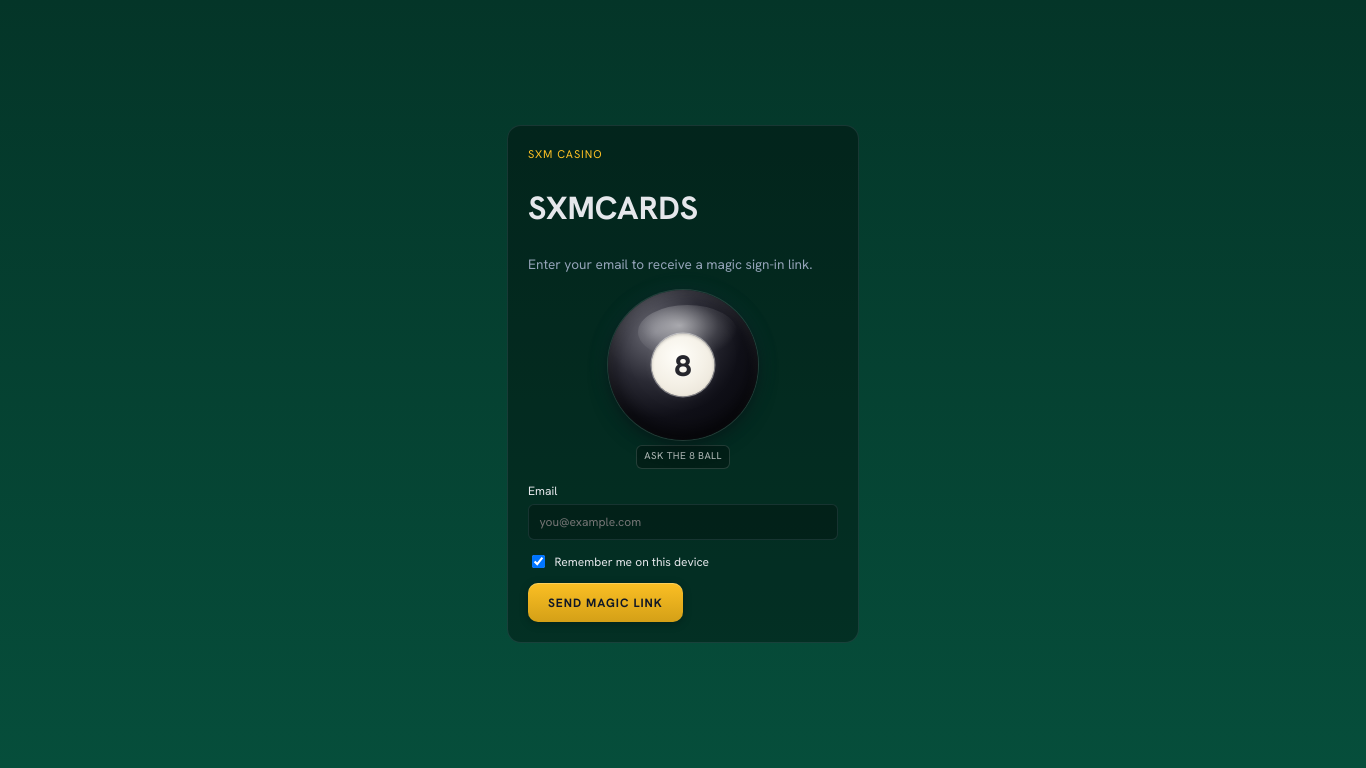
Test: LoginScreen › error state keeps email input for retry
This screenshot has width=1366, height=768.
Type "retry@example.com" into the field labelled "Email" at (683, 522), box x1=528 y1=504 x2=838 y2=540
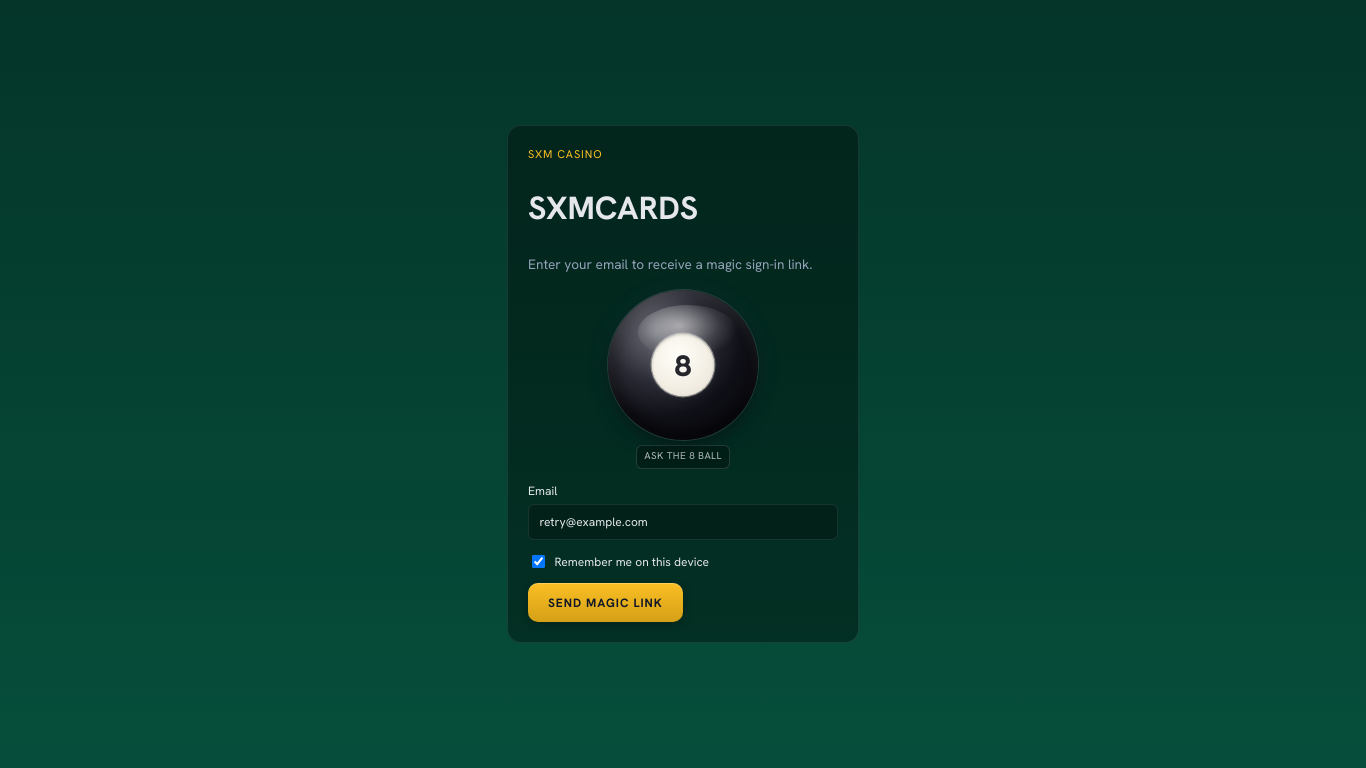
Click the button "Send magic link" at (605, 603), box x1=528 y1=583 x2=683 y2=622
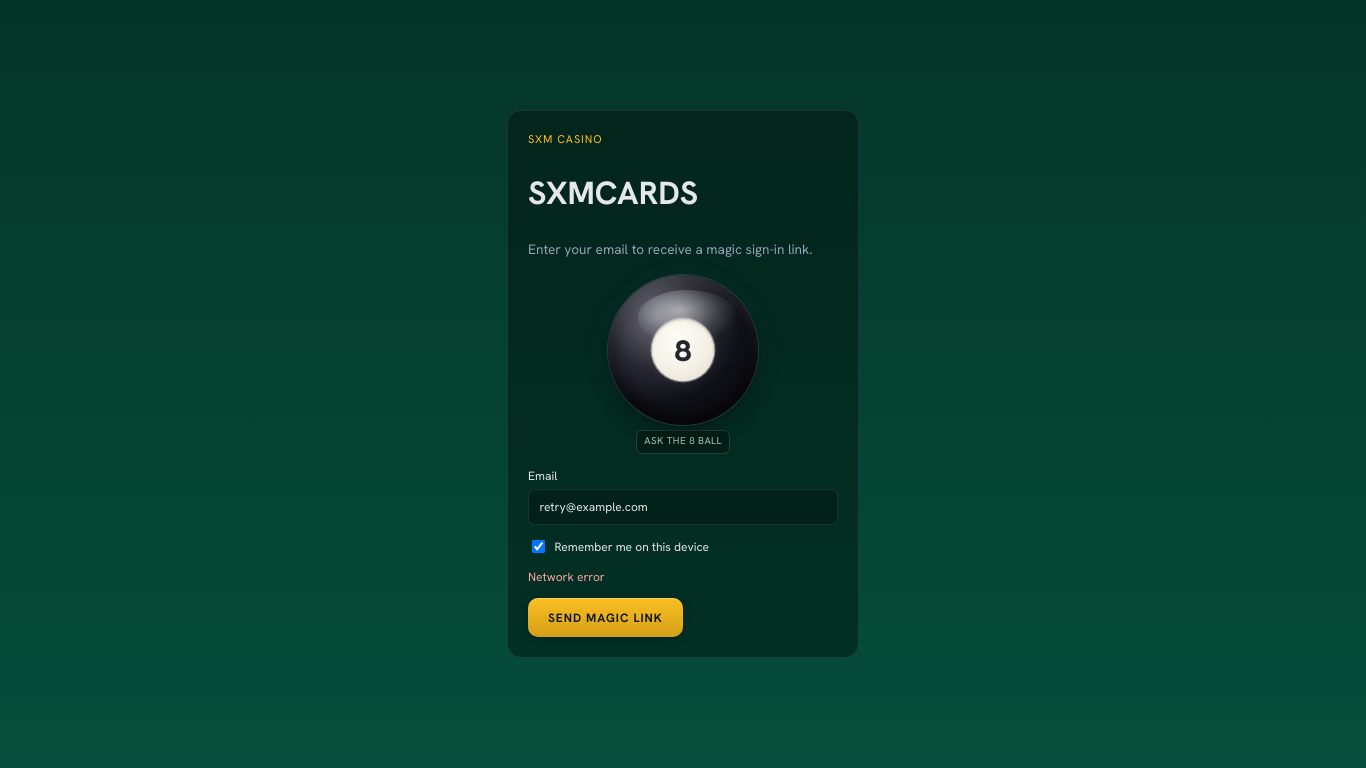
Expected: the text "Enter your email to receive a magic sign-in link." is shown, x1=528 y1=239 x2=838 y2=259
Expected: the text "Network error" is shown, x1=528 y1=569 x2=605 y2=585
